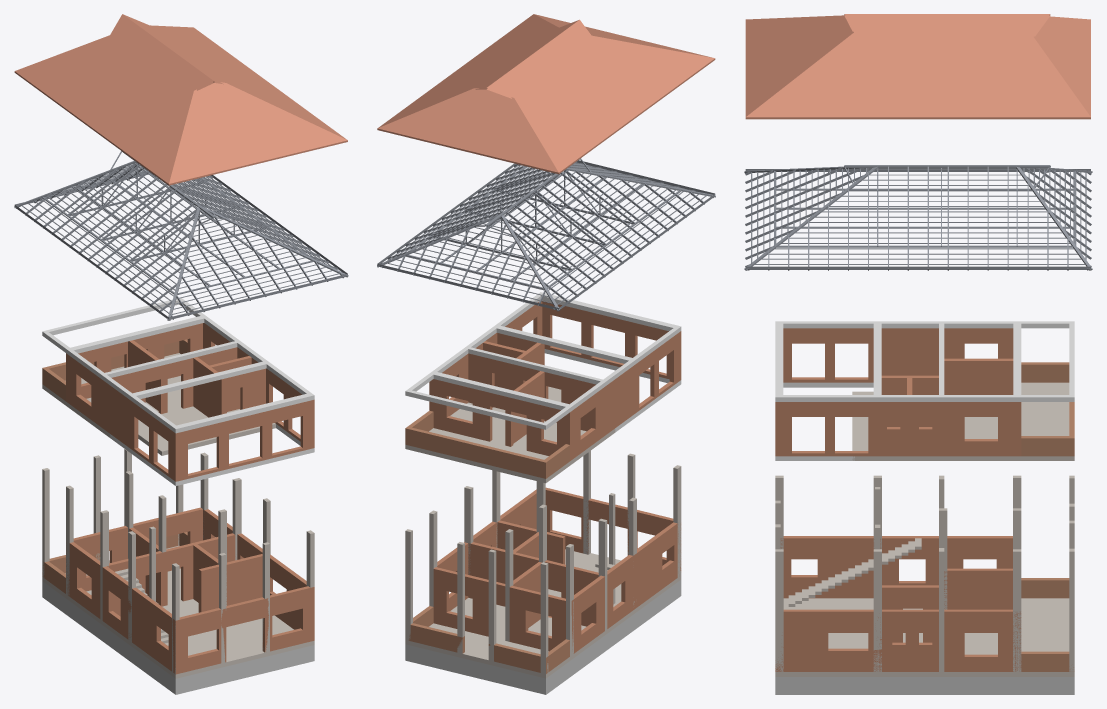
File: konkan_house_exploded.glb
The picture shows the model from 3 angles, left to right: view 1: azimuth 30°, elevation 25°; view 2: azimuth 150°, elevation 25°; view 3: azimuth 270°, elevation 25°; orthographic projection. The views are drawn at different scales.
Visible parts, largest first — view 1: Hip_Roof, Living_Kitchen_South, Plinth, Floor_Slab_0, Living_Kitchen_2_South, Living_Kitchen_West, Living_Kitchen_2_West, Workshop_South, Bedroom_1_West, Bathroom_1_South, Living_Kitchen_East, Staircase_Landing_West (+39 smaller); view 2: Hip_Roof, Plinth, Living_Kitchen_West, Floor_Slab_0, Living_Kitchen_2_South, Living_Kitchen_South, Upper_Verandah_North, Bedroom_3_North, Workshop_North, Floor_Slab_1, Bedroom_1_North, Bedroom_2_North (+38 smaller); view 3: Hip_Roof, Living_Kitchen_East, Floor_Slab_0, Living_Kitchen_West, Plinth, Floor_Slab_1, Workshop_East, Bedroom_3_East, Living_Kitchen_2_East, Bathroom_2_East, Bedroom_1_East, Living_Kitchen_2_West (+30 smaller).
Part boxes in pixels (<box>): Hip_Roof: <box>14,14,347,185</box>; Living_Kitchen_South: <box>173,586,314,674</box>; Plinth: <box>42,581,314,694</box>; Floor_Slab_0: <box>42,545,314,678</box>; Living_Kitchen_2_South: <box>180,400,310,480</box>; Living_Kitchen_West: <box>102,566,173,671</box>; Living_Kitchen_2_West: <box>131,401,179,481</box>; Workshop_South: <box>162,533,235,606</box>; Bedroom_1_West: <box>68,542,100,618</box>; Bathroom_1_South: <box>226,554,262,605</box>; Living_Kitchen_East: <box>237,533,306,629</box>; Staircase_Landing_West: <box>101,379,131,448</box>; Hip_Roof: <box>377,14,715,174</box>; Plinth: <box>405,580,681,694</box>; Living_Kitchen_West: <box>607,522,678,628</box>; Floor_Slab_0: <box>405,549,681,678</box>; Living_Kitchen_2_South: <box>542,301,681,380</box>; Living_Kitchen_South: <box>545,487,681,570</box>; Upper_Verandah_North: <box>405,426,548,478</box>; Bedroom_3_North: <box>429,379,509,443</box>; Workshop_North: <box>433,567,505,636</box>; Floor_Slab_1: <box>405,402,615,483</box>; Bedroom_1_North: <box>509,585,572,651</box>; Bedroom_2_North: <box>505,397,572,460</box>; Hip_Roof: <box>745,14,1090,119</box>; Living_Kitchen_East: <box>781,609,938,671</box>; Floor_Slab_0: <box>775,598,1074,676</box>; Living_Kitchen_West: <box>780,536,938,598</box>; Plinth: <box>775,677,1074,694</box>; Floor_Slab_1: <box>919,382,1074,460</box>; Workshop_East: <box>944,609,1015,671</box>; Bedroom_3_East: <box>944,402,1015,456</box>; Living_Kitchen_2_East: <box>775,402,874,456</box>; Bathroom_2_East: <box>880,402,938,456</box>; Bedroom_1_East: <box>944,568,1012,609</box>; Living_Kitchen_2_West: <box>783,328,873,382</box>.
Size of what is drawn, in the model's own units: 35.26 by 107 by 52.4.
